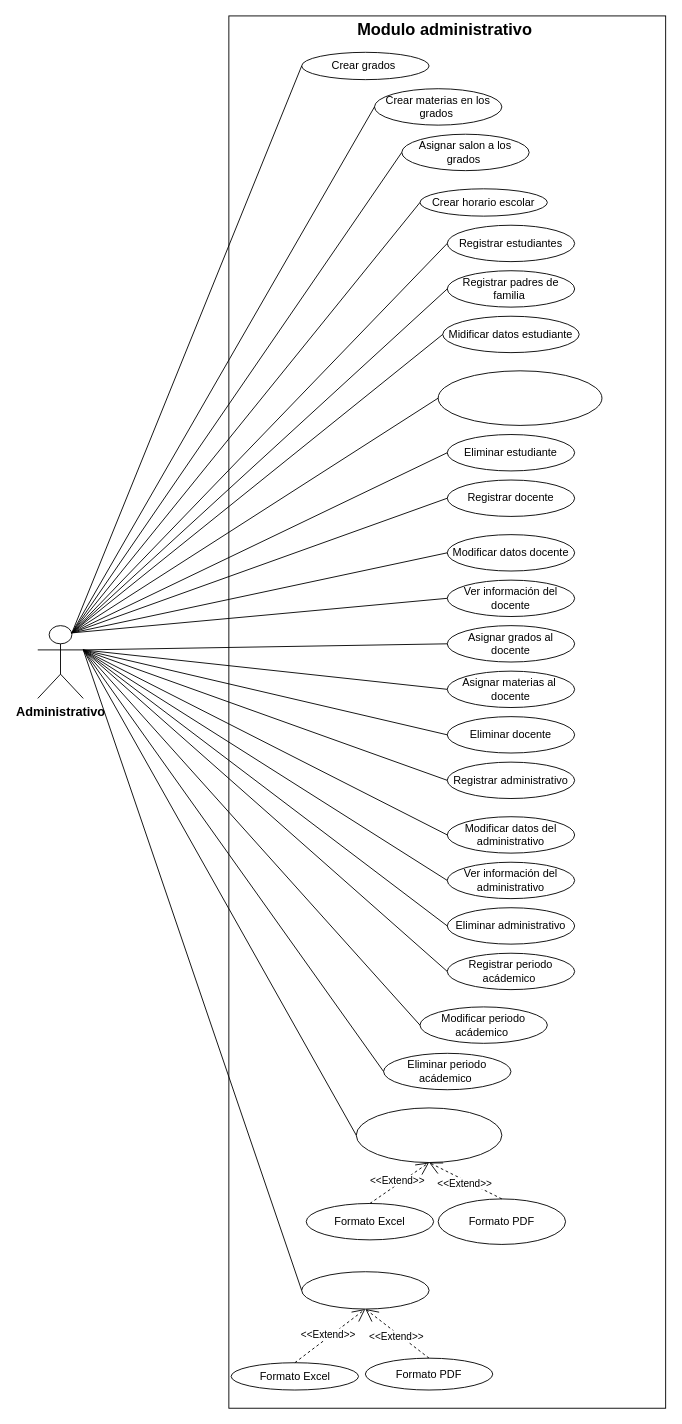
Some shapes in this 682 by 1424 pixel diagram are drawn without their labels. Here are the shapes that lost their labels. From the top down, the centre of each, then its label:
the point at 519,397: Ver infirmación del estudiante y de los padres
the point at 428,1135: Descargar información de usuarios
the point at 365,1290: Generar informes
